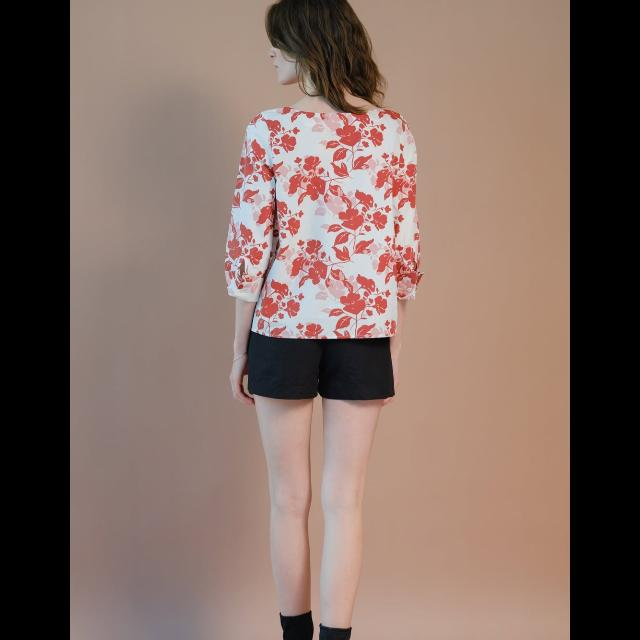bottom: (246, 328, 402, 409)
top: (230, 107, 416, 343)
